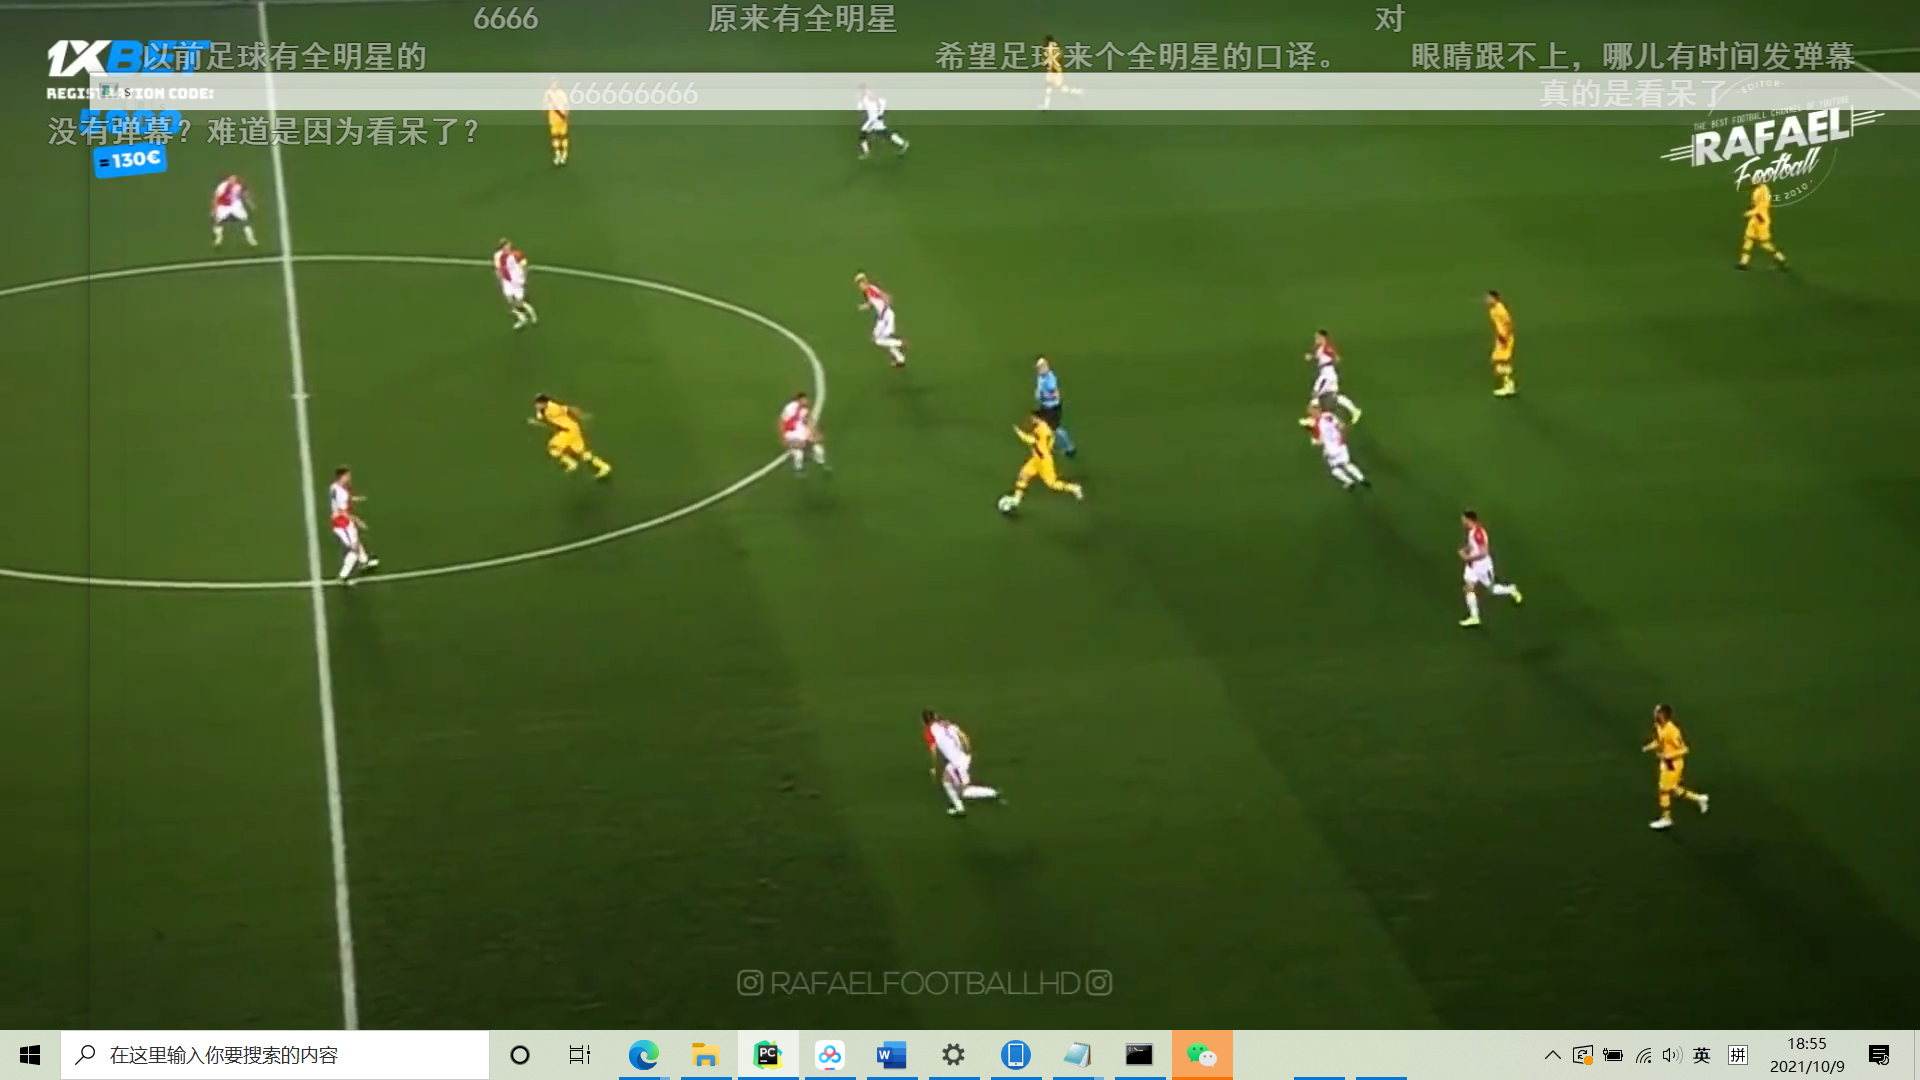ft: (996, 493, 1017, 516)
